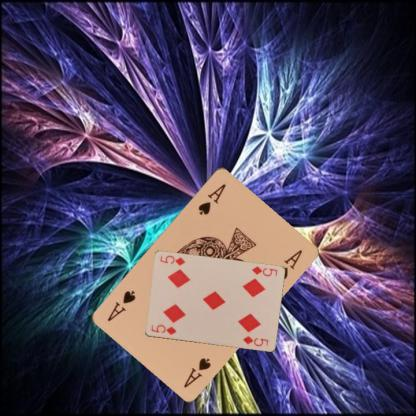5d: (148, 322, 178, 336), (249, 264, 278, 277)
As: (195, 180, 227, 216), (180, 355, 212, 389)
